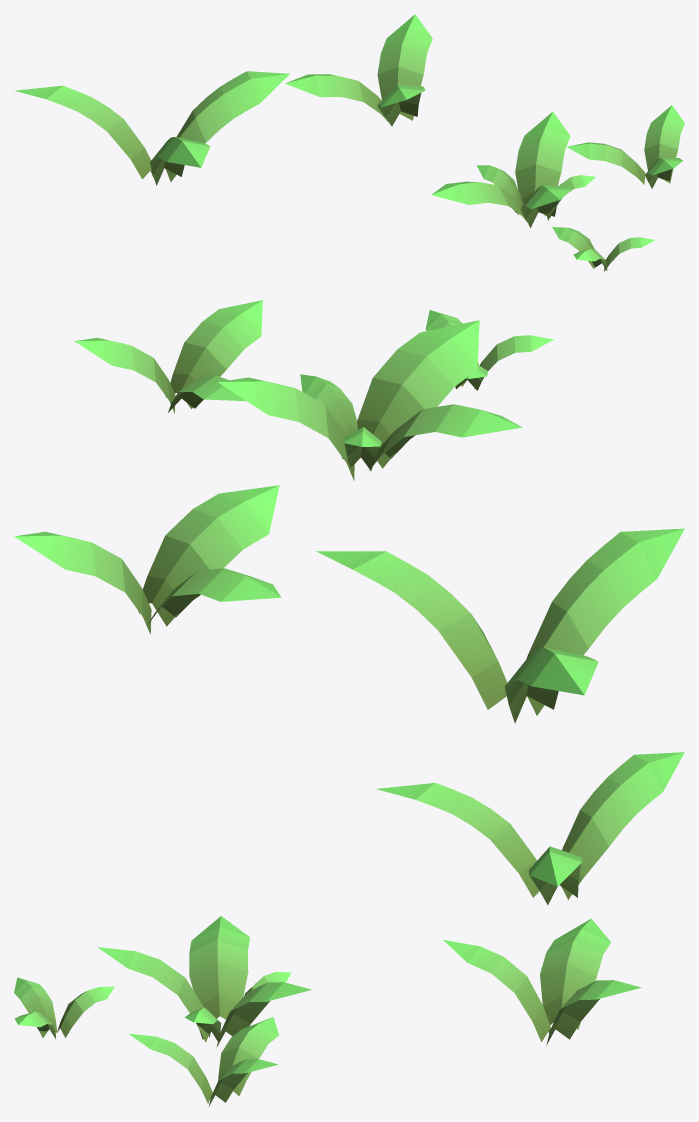
Rendered from Ferns.fbx.
3 renders of one model, top to bottom at view 1: azimuth 30°, elevation 25°; view 2: azimuth 150°, elevation 25°; view 3: azimuth 270°, elevation 25°, orthographic. The views are drawn at different scales.
Parts seen in each view (by area): view 1: Fern_big, Fern_medium_2, Fern_medium_3, Fern_medium_1, Fern_small; view 2: Fern_big, Fern_medium_2, Fern_medium_3, Fern_medium_1, Fern_small; view 3: Fern_big, Fern_medium_2, Fern_medium_3, Fern_medium_1, Fern_small.
Part boxes in pixels (box(x1,y1,x2,y2)): Fern_big: box(14, 71, 289, 185); Fern_medium_2: box(431, 112, 595, 227); Fern_medium_3: box(285, 14, 432, 126); Fern_medium_1: box(566, 105, 684, 188); Fern_small: box(552, 227, 654, 271); Fern_big: box(316, 528, 684, 723); Fern_medium_2: box(218, 320, 522, 480); Fern_medium_3: box(14, 485, 281, 634); Fern_medium_1: box(74, 300, 262, 413); Fern_small: box(425, 310, 553, 390); Fern_big: box(376, 752, 684, 905); Fern_medium_2: box(97, 916, 311, 1047); Fern_medium_3: box(443, 918, 641, 1045); Fern_medium_1: box(128, 1017, 278, 1106); Fern_small: box(14, 977, 114, 1038).
Bounding box in the file's own units: 419 × 67.53 × 402.
